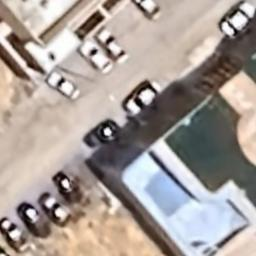SUV: (220, 2, 256, 38)
sedan: (94, 26, 128, 64), (16, 204, 54, 238), (126, 80, 160, 116), (78, 41, 114, 75), (44, 70, 82, 102), (82, 119, 120, 150), (39, 194, 75, 226), (50, 170, 84, 202), (0, 217, 32, 247), (130, 0, 166, 22)
